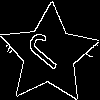J: (24, 29, 74, 78)
